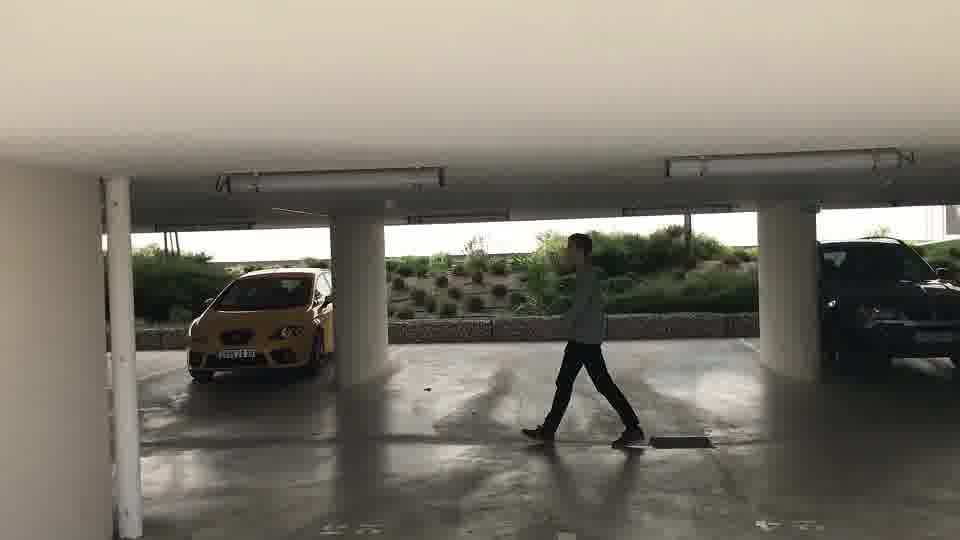jugador: (520, 230, 648, 454)
